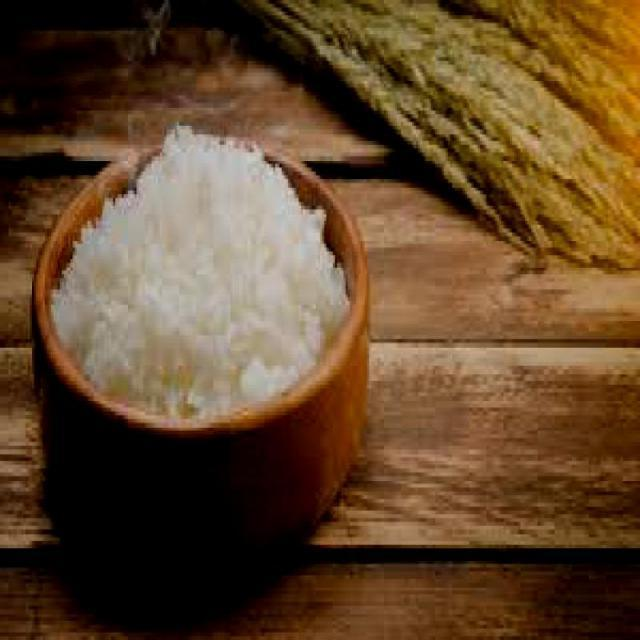Chicken -Chicken Inasal-: (55, 135, 336, 420)
